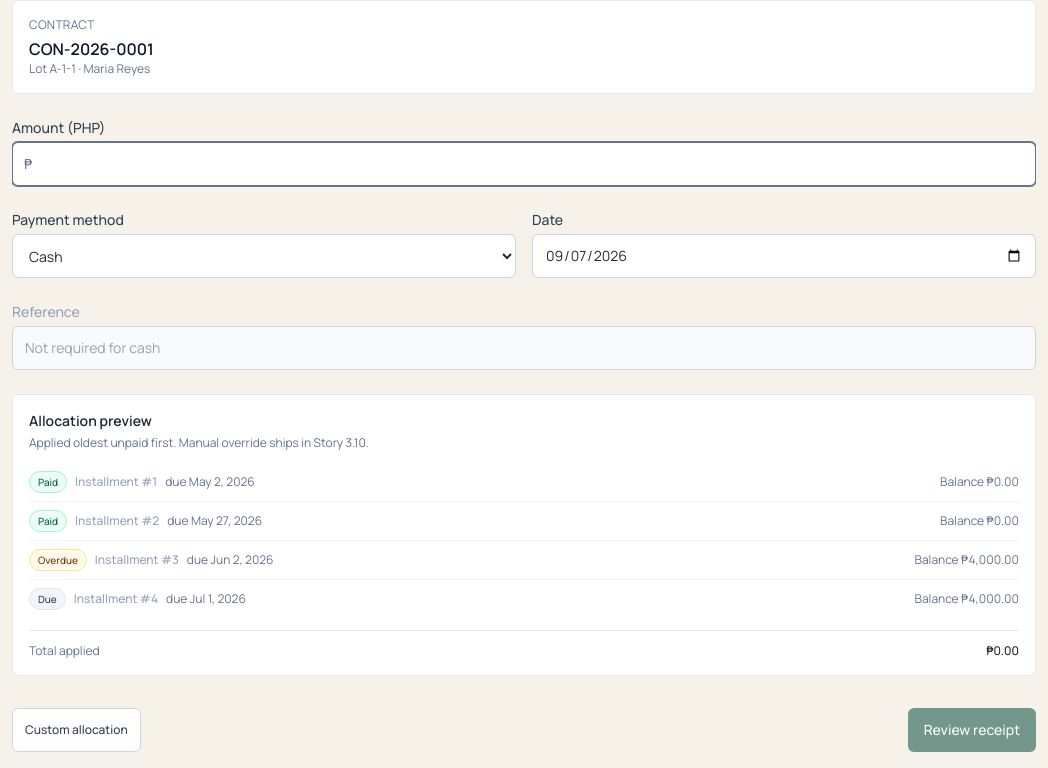
Test: PaymentForm — custom-allocation toggle › toggling on swaps the auto preview for the editable rows
Enter an amount so the form has something to validate against.
Type "4000" into the field with test id "payment-amount-input" at (524, 164), box 12,142 -> 1036,186
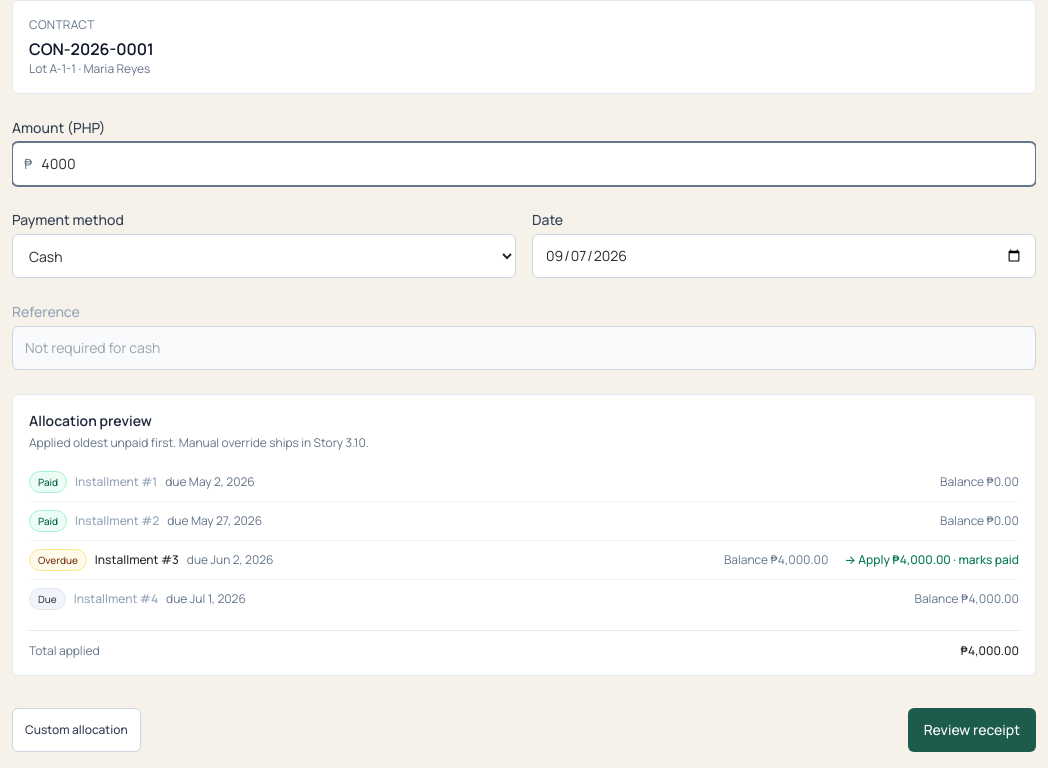
expect the element with test id "allocation-preview" is shown: met, box 12,394 -> 1036,676
Click the toggle.
Click the button with test id "payment-form-toggle-custom" at (76, 730), box 12,708 -> 141,752
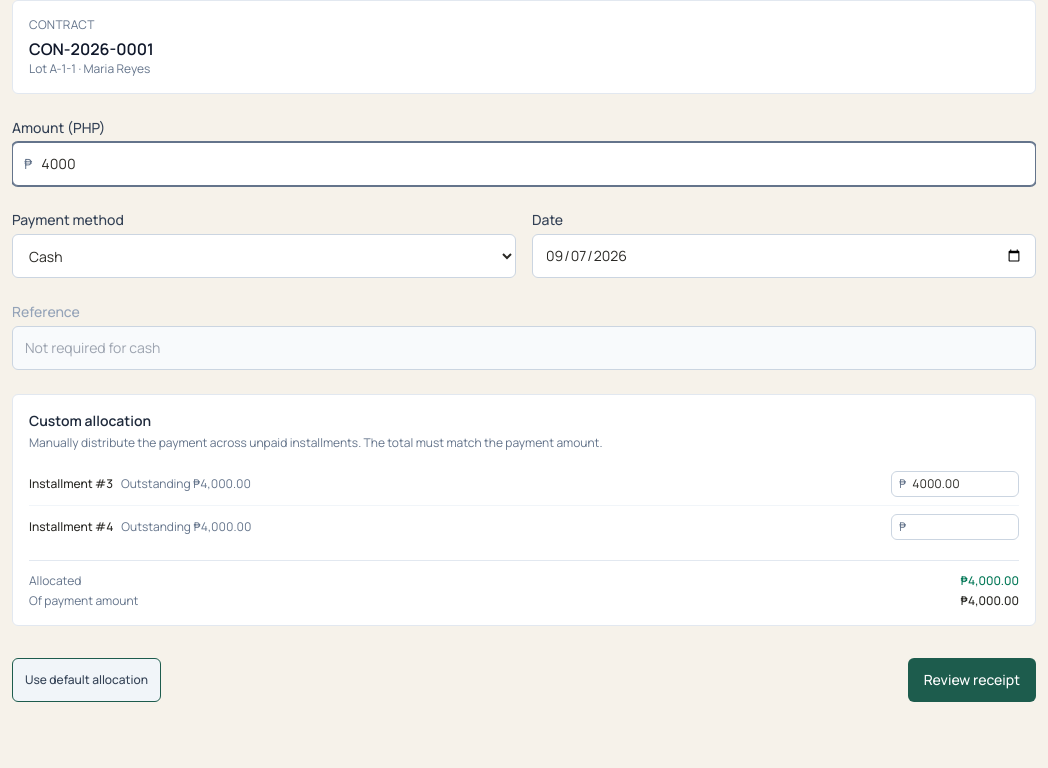
expect the element with test id "allocation-preview" is gone: met
expect the element with test id "custom-allocation-editor" is shown: met, box 12,394 -> 1036,626
expect the list item with test id "custom-allocation-row-3" is shown: met, box 29,463 -> 1019,505
